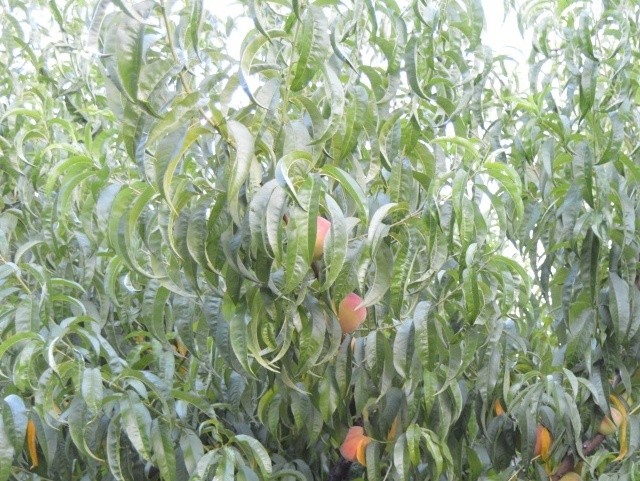peach: (331, 289, 370, 334), (306, 213, 334, 268), (337, 423, 370, 464), (593, 403, 625, 437)
